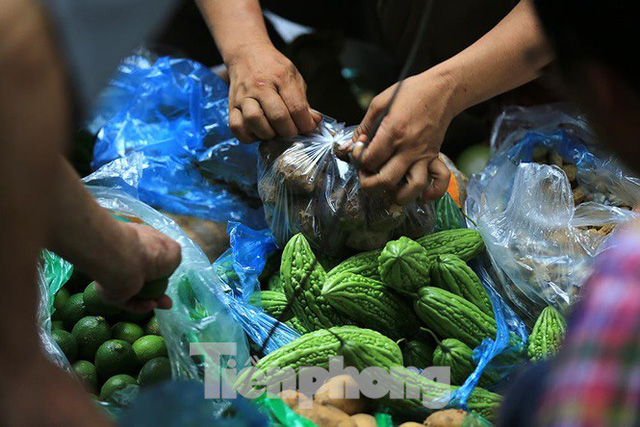plastic bag: (34, 44, 640, 427)
